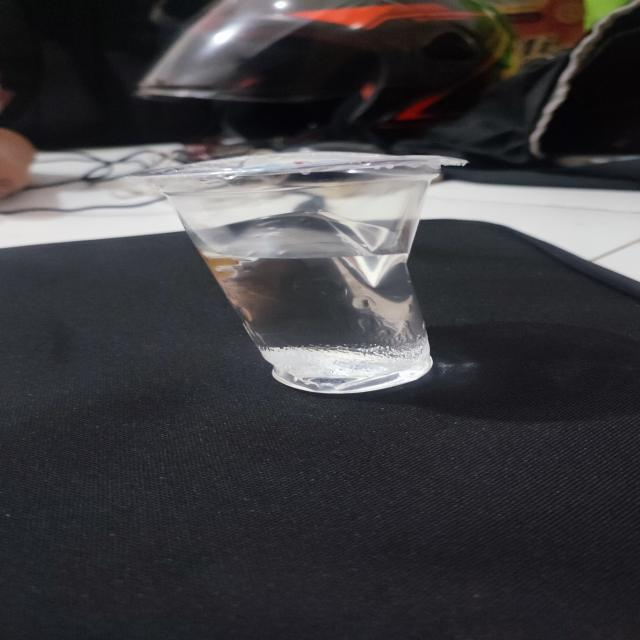air-gelas-rusak: (115, 142, 479, 398)
